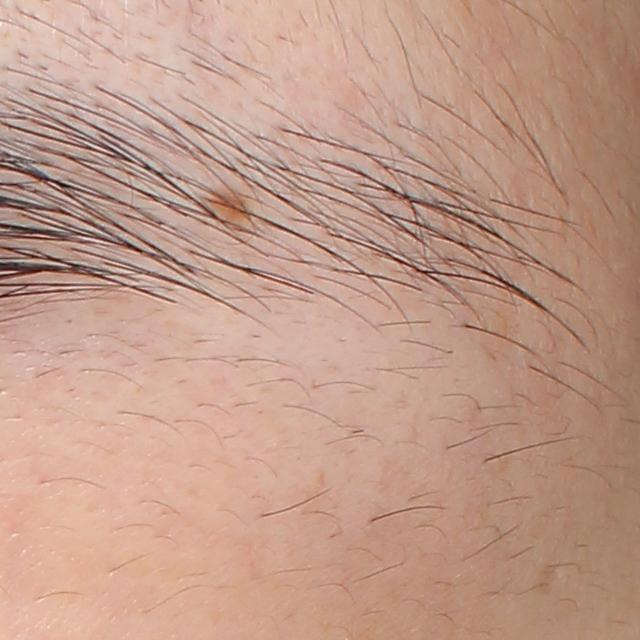nevus: (200, 177, 248, 223)
